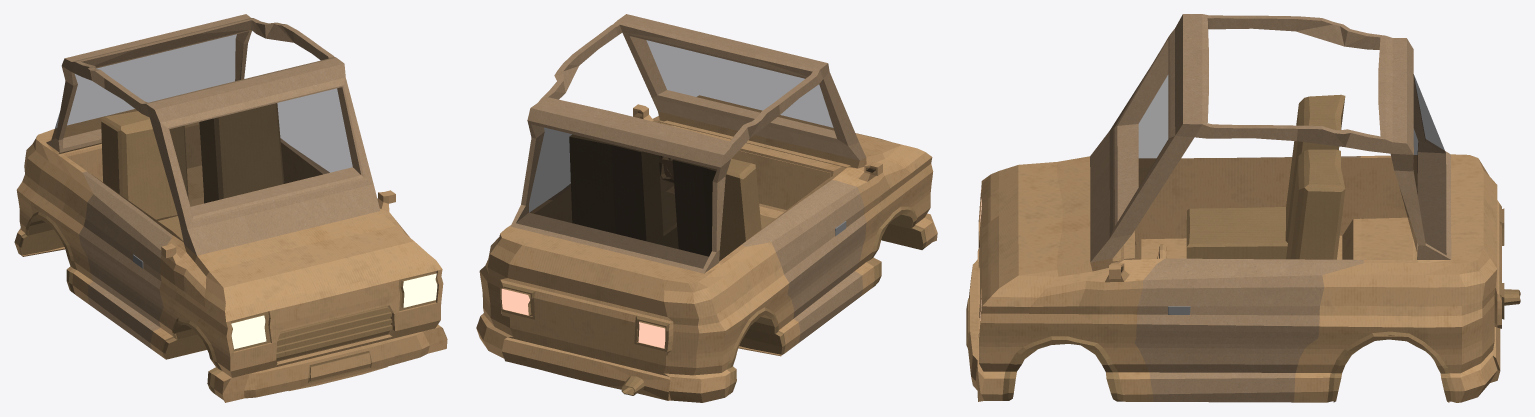
File: car.glb
3 views of the same model, side by side, from view 1: azimuth 30°, elevation 25°; view 2: azimuth 150°, elevation 25°; view 3: azimuth 270°, elevation 25° (orthographic). The views are drawn at different scales.
Visible parts, largest first — view 1: Plane; view 2: Plane; view 3: Plane.
Part boxes in pixels (x1,y1,x2,y2): Plane: (14, 14, 447, 402); Plane: (476, 14, 937, 402); Plane: (966, 14, 1520, 402).
Size of the model in its own units: 1.58 by 1.44 by 2.68.
Materials: 6 (3 with a texture image).
